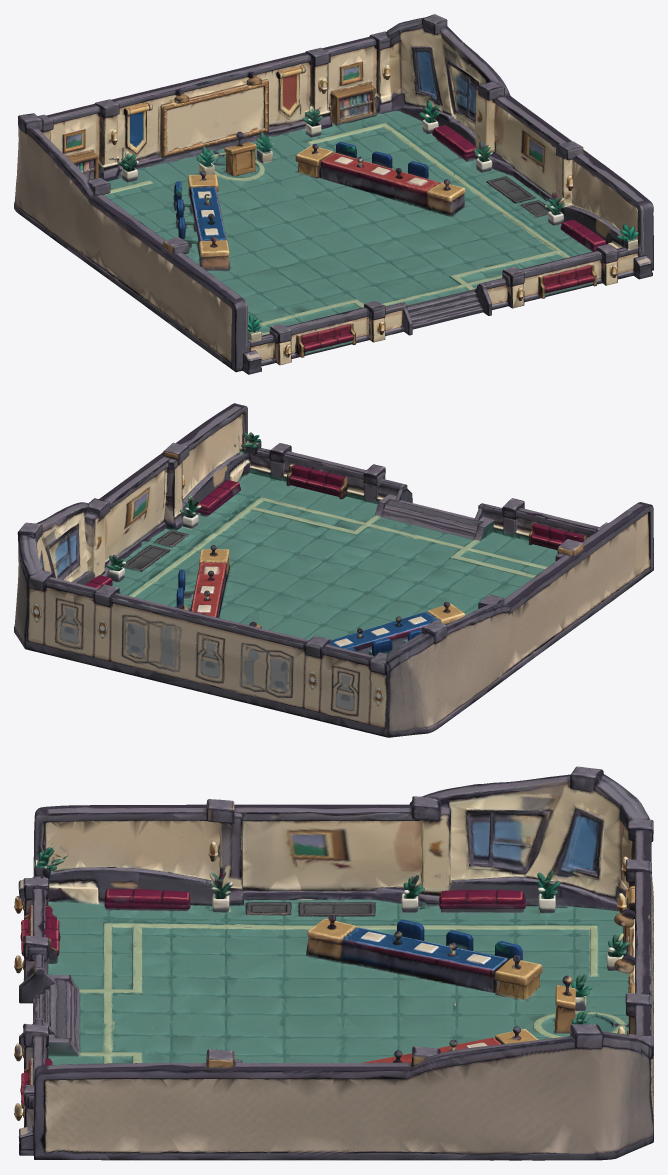
The model's file is scene-debate.glb.
3 views of the same model, one above another, from view 1: azimuth 30°, elevation 25°; view 2: azimuth 150°, elevation 25°; view 3: azimuth 270°, elevation 25° (orthographic). The views are drawn at different scales.
Parts seen in each view (by area): view 1: Mesh_0; view 2: Mesh_0; view 3: Mesh_0.
Part boxes in pixels (box(x1,y1,x2,y2)): Mesh_0: box(14, 14, 653, 374); Mesh_0: box(14, 403, 653, 737); Mesh_0: box(14, 766, 653, 1160).
Bounding box in the file's own units: 1.9 × 0.4243 × 1.92.
1 material, 1 textured.
